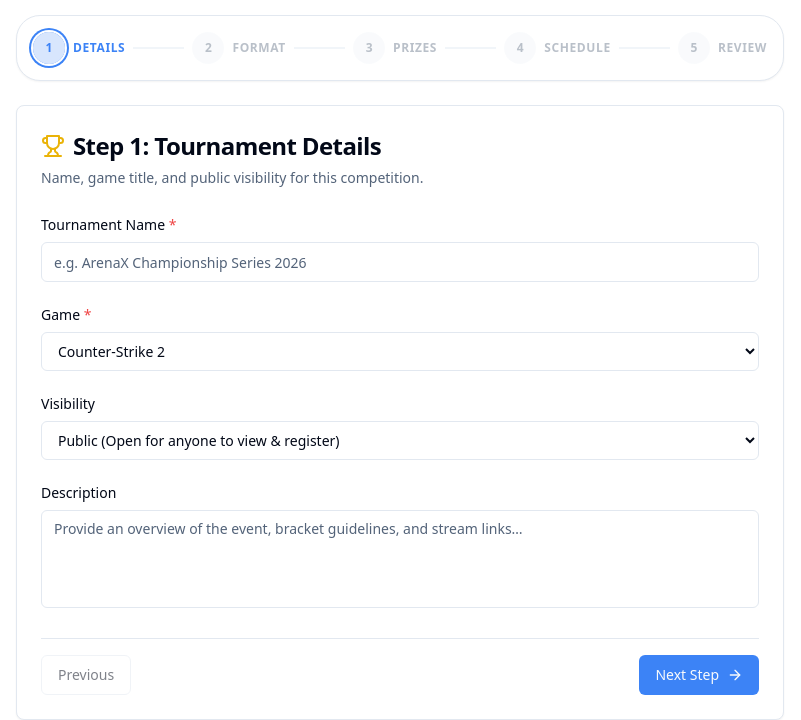
Test: Tournament Creation Wizard (Issue #1427) › validates step 1 before allowing next and shows inline errors
(page scrolled)
Note: Click Next with empty name
Click the button "Next Step" at (699, 675), box [639,655,759,695]
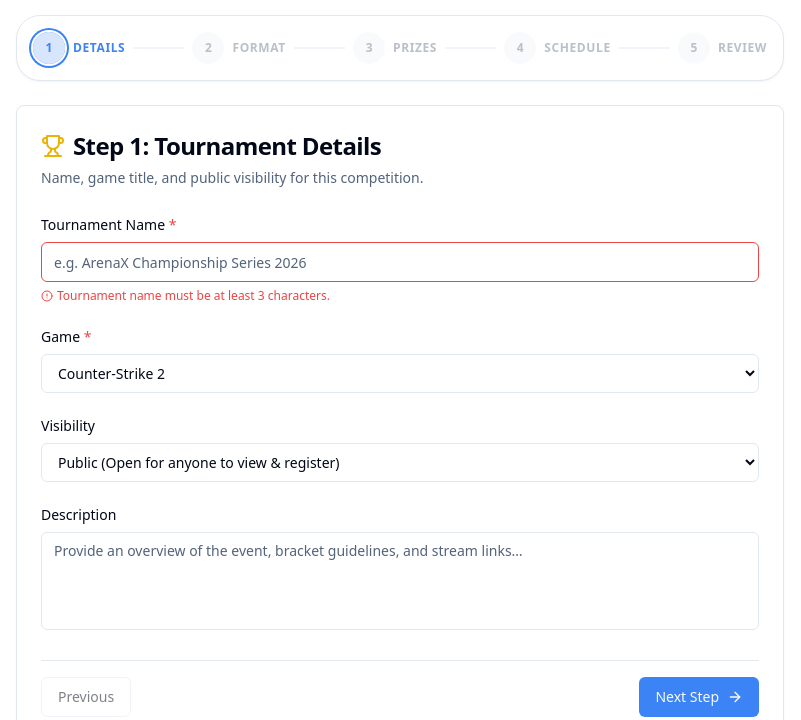
Check: the text "Tournament name must be at least 3 characters." is shown, box [41,287,330,304]
Note: Fill valid name
Type "Apex Legends Winter Cup" into the field labelled "Tournament Name *" at (400, 262), box [41,242,759,282]
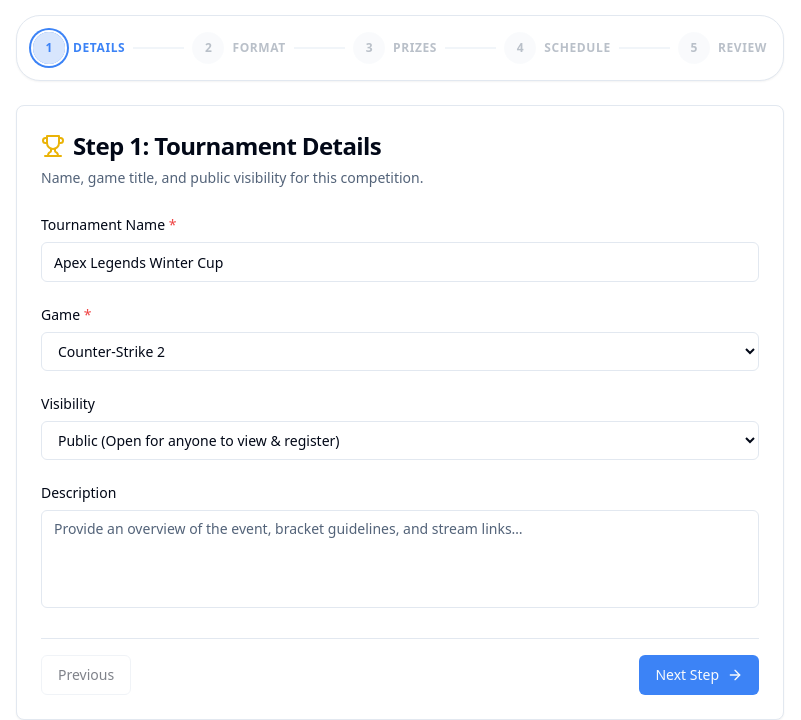
Click the button "Next Step" at (699, 675), box [639,655,759,695]
(page scrolled)
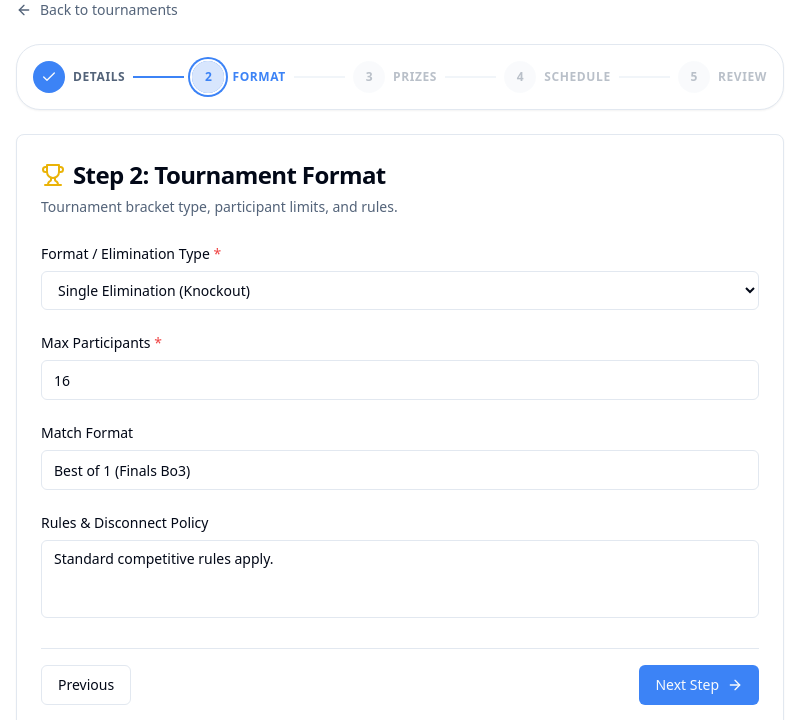
Check: the element with test id "step-format-content" is shown, box [41,241,759,624]
